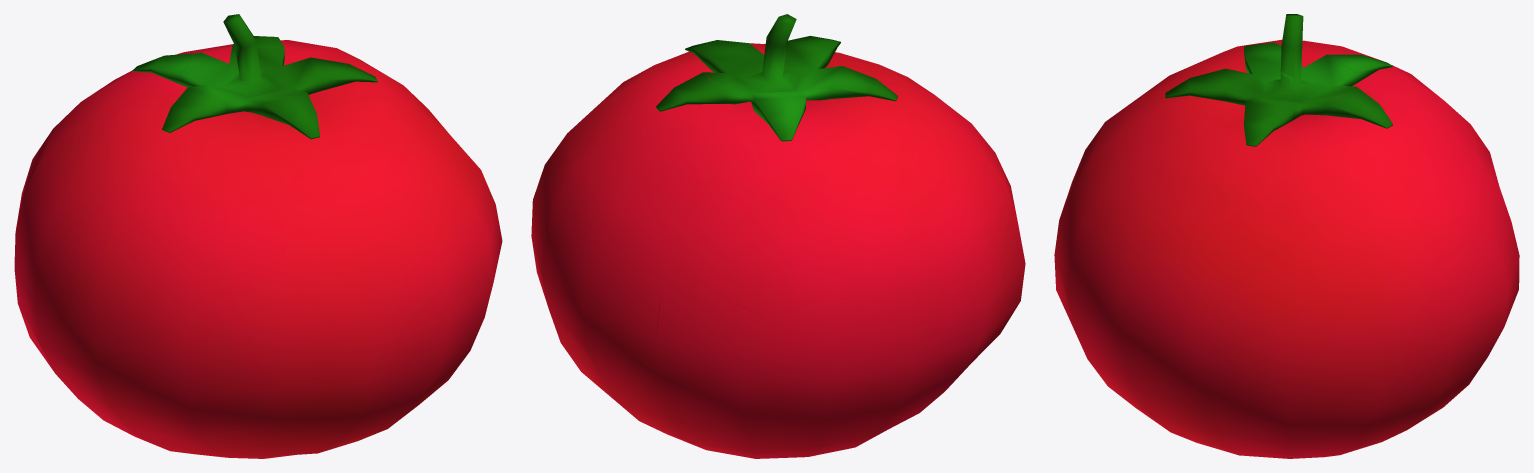
File: DomatesHam.fbx
3 renders of one model, left to right at view 1: azimuth 30°, elevation 25°; view 2: azimuth 150°, elevation 25°; view 3: azimuth 270°, elevation 25°, orthographic. The views are drawn at different scales.
Visible parts, largest first — view 1: Cylinder.001; view 2: Cylinder.001; view 3: Cylinder.001.
Boxes of the visible parts, x1,y1,x2,y2 form: Cylinder.001: [14, 14, 502, 458]; Cylinder.001: [531, 14, 1025, 458]; Cylinder.001: [1054, 14, 1519, 458].
Size of the model in its own units: 175 by 163 by 167.
